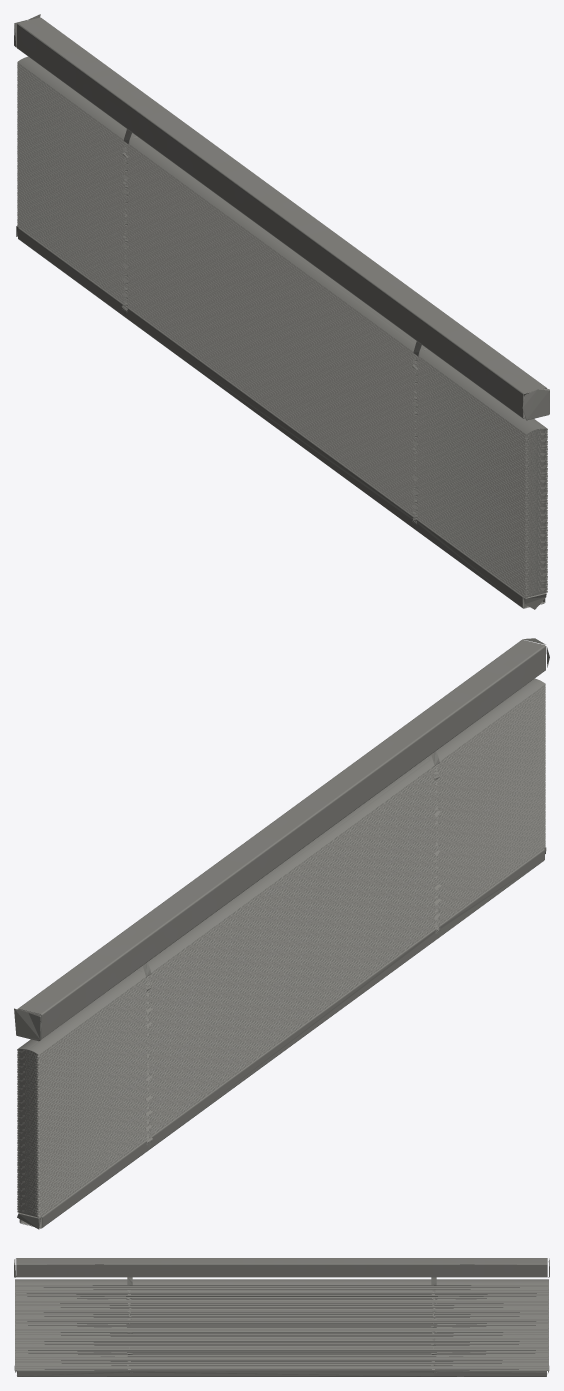
The model's file is blinds_window_2m_closed_a01.glb.
The picture shows the model from 3 angles, top to bottom: view 1: azimuth 30°, elevation 25°; view 2: azimuth 150°, elevation 25°; view 3: azimuth 270°, elevation 25°; orthographic projection. The views are drawn at different scales.
Visible parts, largest first — view 1: geometry_0; view 2: geometry_0; view 3: geometry_0.
Part boxes in pixels (x1=…): geometry_0: x1=14, y1=14, x2=549, y2=609; geometry_0: x1=14, y1=638, x2=549, y2=1229; geometry_0: x1=14, y1=1258, x2=549, y2=1376.
Bounding box in the file's own units: 0.0133 × 0.1005 × 0.42.
1 material, 1 textured.
